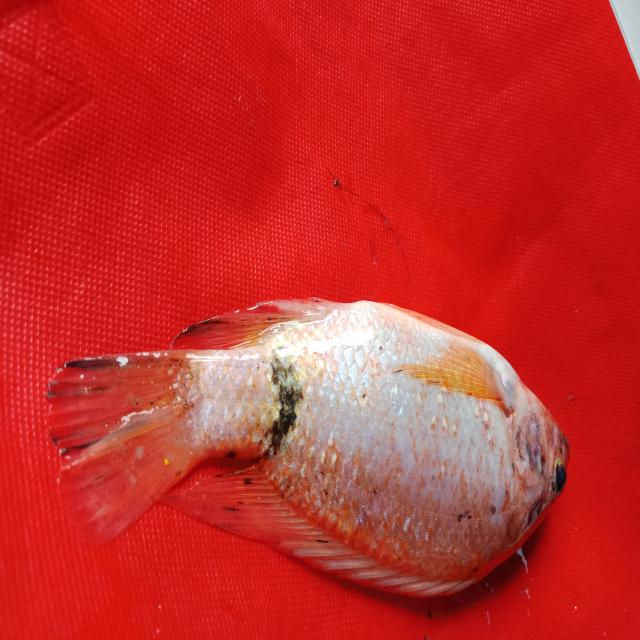ikan: (46, 266, 580, 610)
